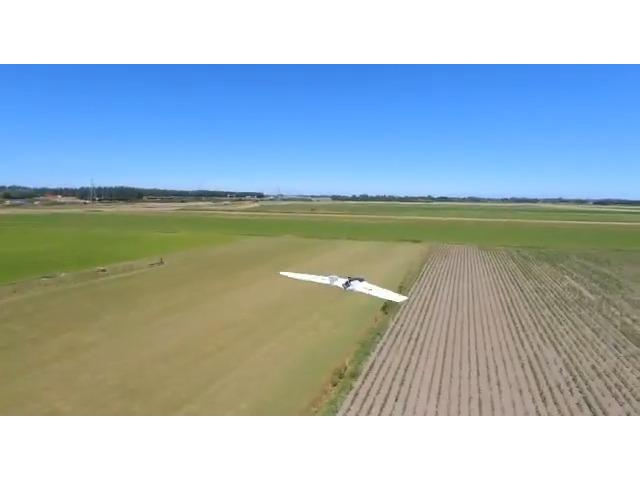Anti-Drone: (263, 233, 417, 323)
